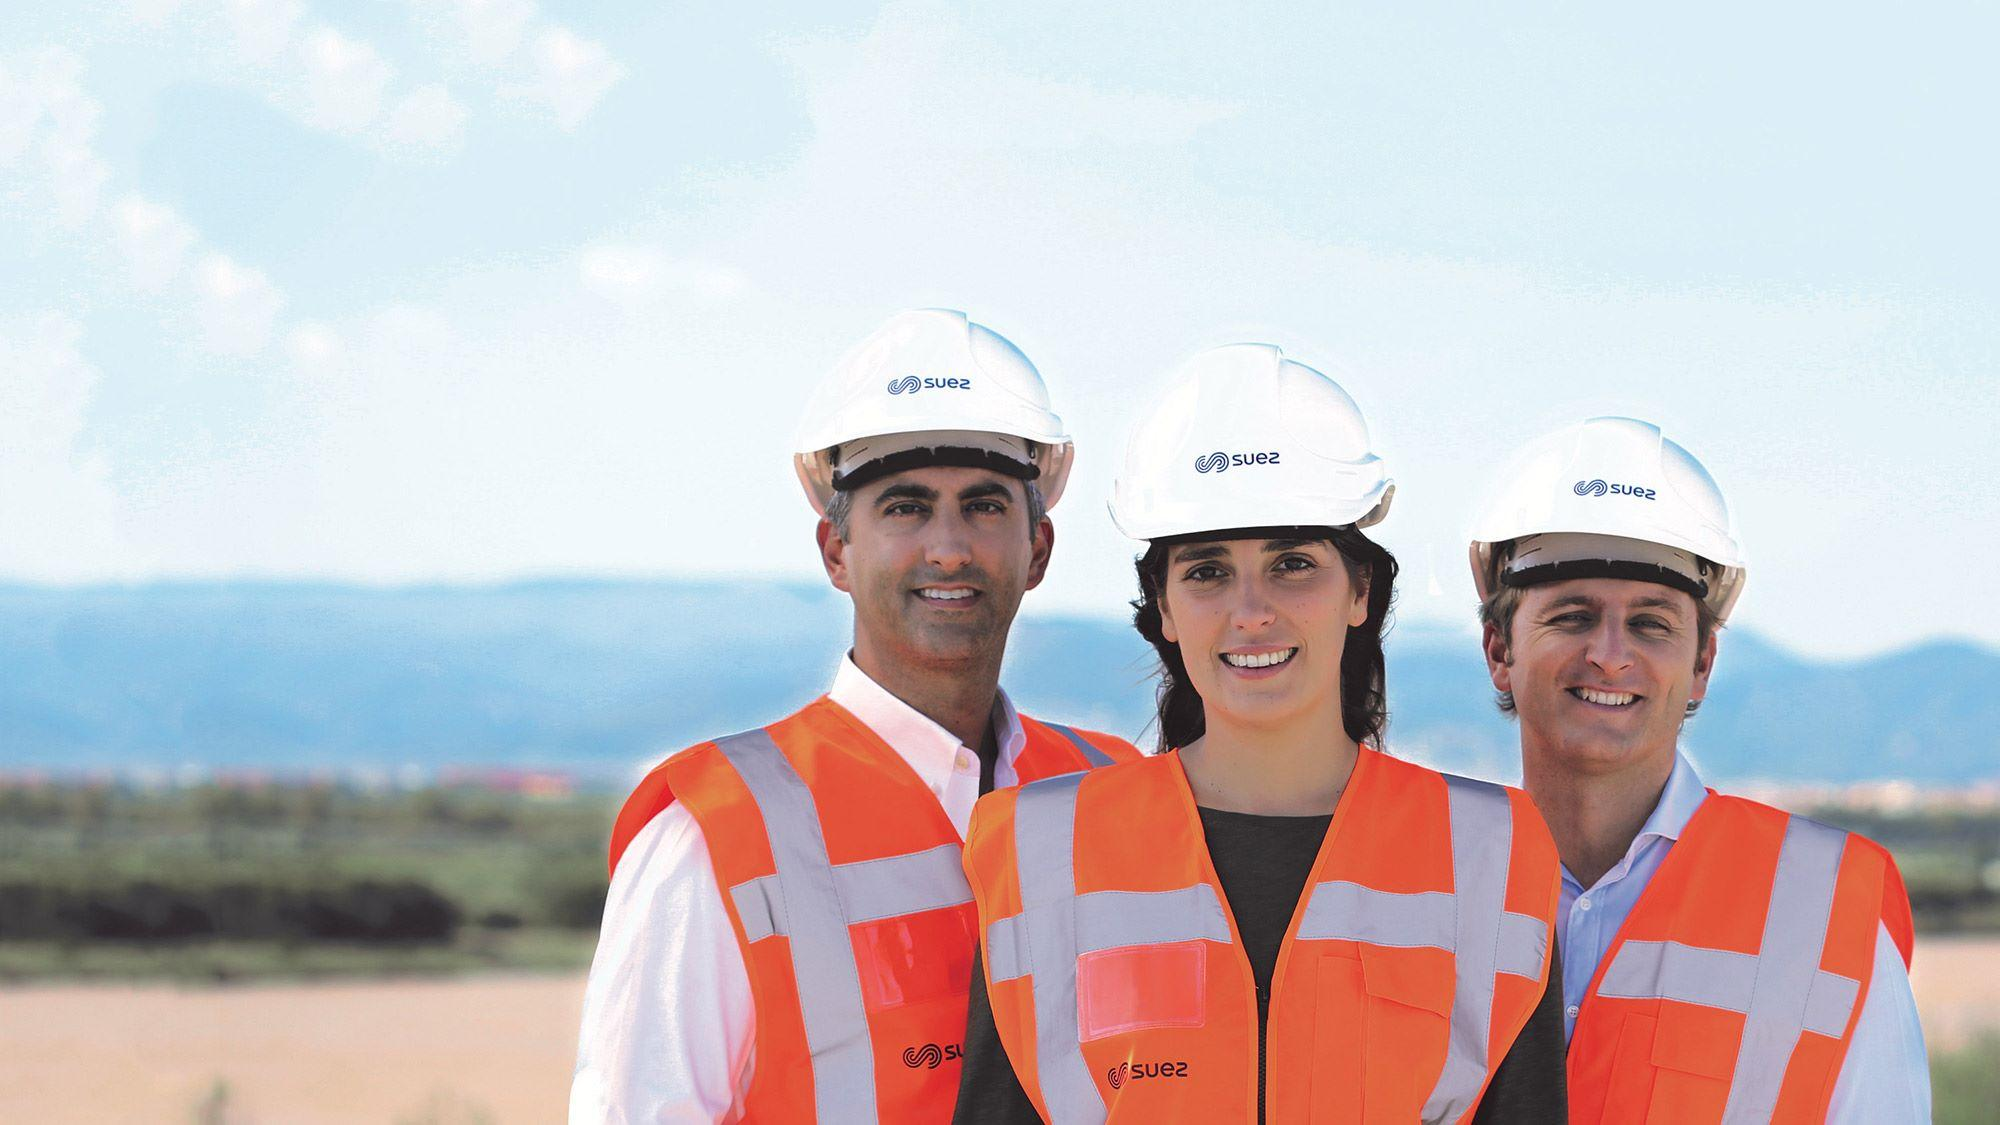helmet: (1103, 341, 1398, 541), (1463, 418, 1758, 598), (783, 304, 1069, 468)
